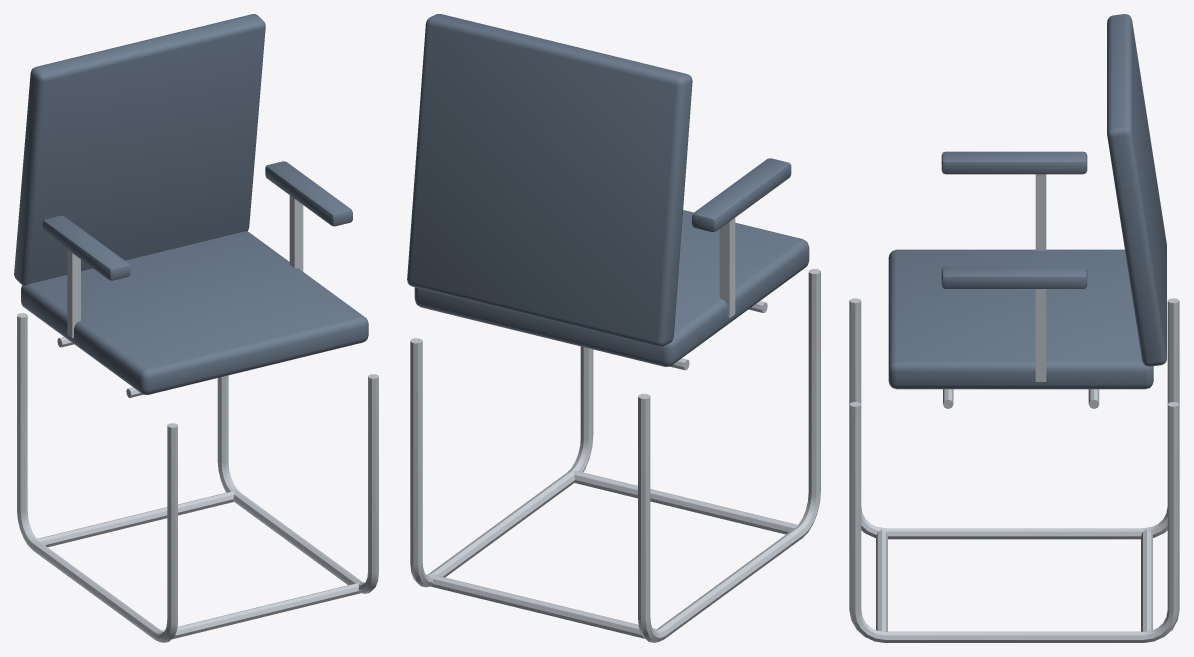
File: meet-chair.glb
The picture shows the model from 3 angles, left to right: view 1: azimuth 30°, elevation 25°; view 2: azimuth 150°, elevation 25°; view 3: azimuth 270°, elevation 25°; orthographic projection. The views are drawn at different scales.
Parts seen in each view (by area): view 1: meet-chair; view 2: meet-chair; view 3: meet-chair.
Part boxes in pixels (bbox=[...]): meet-chair: bbox=[14, 14, 378, 642]; meet-chair: bbox=[407, 14, 820, 642]; meet-chair: bbox=[849, 14, 1179, 642].
Bounding box in the file's own units: 0.45 × 0.8663 × 0.498.
